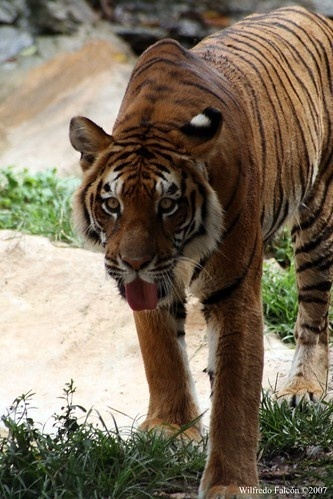tigre: (62, 1, 332, 499)
